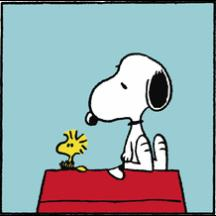snoopy: (85, 52, 173, 181)
